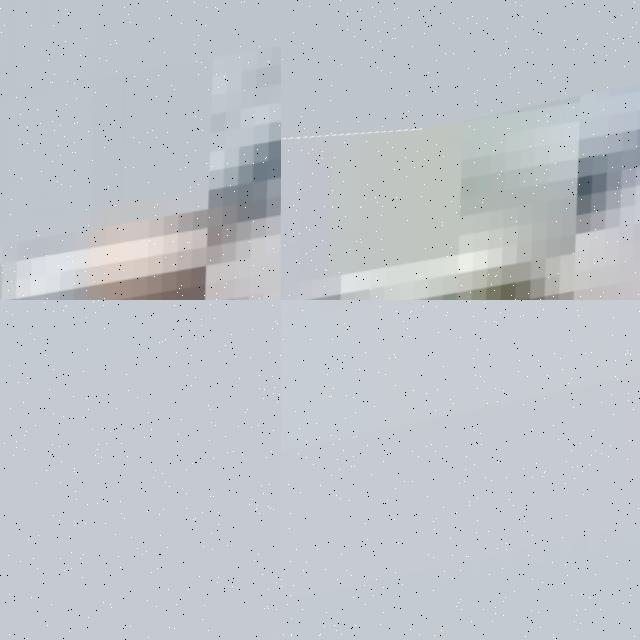drone: (281, 32, 640, 300), (0, 0, 281, 300)
